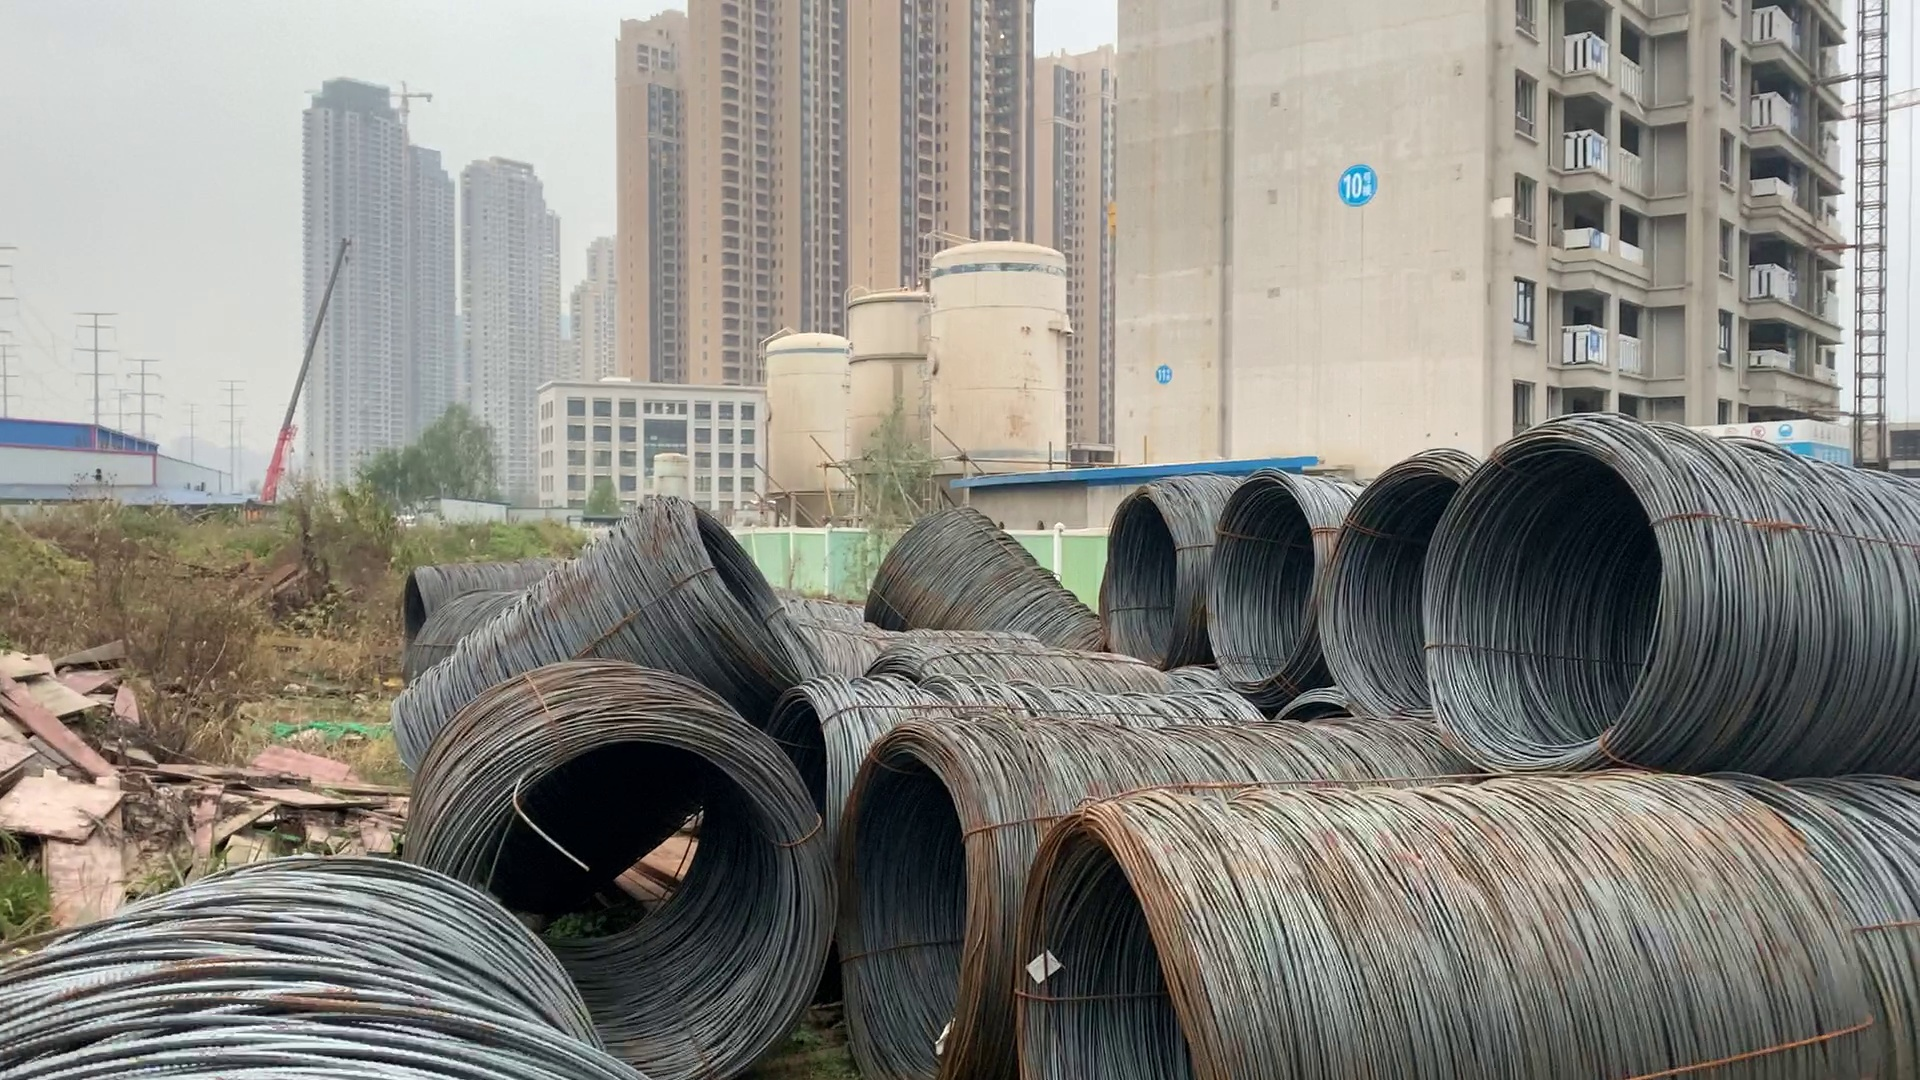coil: (435, 721, 825, 1080), (1414, 433, 1673, 767), (837, 709, 990, 1080), (1007, 814, 1203, 1080), (1315, 463, 1465, 738), (665, 506, 824, 684), (1199, 473, 1324, 696), (1091, 491, 1188, 671), (385, 563, 438, 644)
